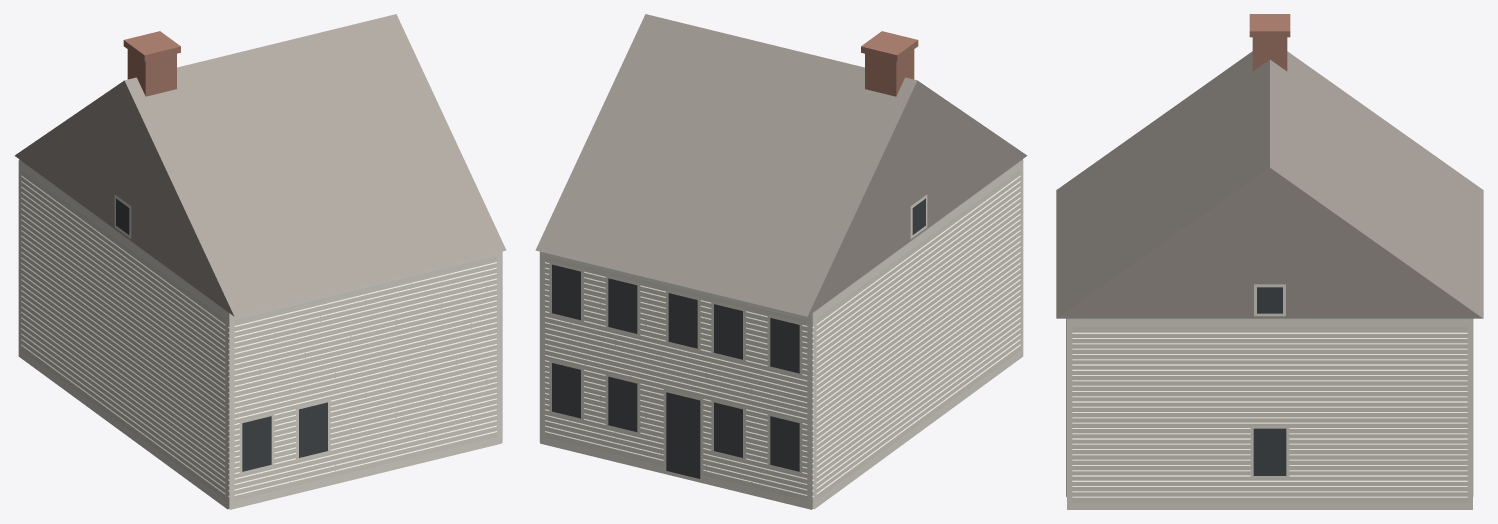
The model's file is recon_1835_north_d7_031__inferred_1835.glb.
3 views of the same model, side by side, from view 1: azimuth 30°, elevation 25°; view 2: azimuth 150°, elevation 25°; view 3: azimuth 270°, elevation 25° (orthographic). The views are drawn at different scales.
Parts seen in each view (by area): view 1: recon_1835_north_d7_031__inferred_1835; view 2: recon_1835_north_d7_031__inferred_1835; view 3: recon_1835_north_d7_031__inferred_1835.
Part boxes in pixels (bbox=[...]): recon_1835_north_d7_031__inferred_1835: bbox=[14, 14, 506, 509]; recon_1835_north_d7_031__inferred_1835: bbox=[535, 14, 1027, 509]; recon_1835_north_d7_031__inferred_1835: bbox=[1056, 14, 1483, 509].
Bounding box in the file's own units: 7.41 × 9.84 × 10.25.
